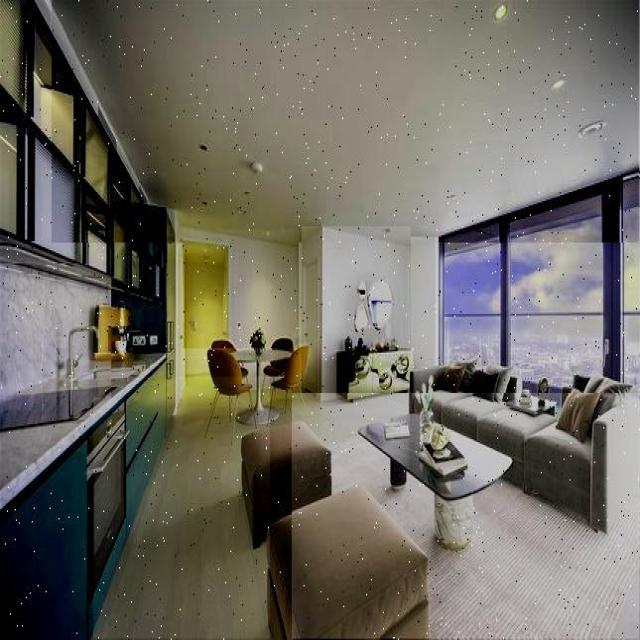Wall: (52, 0, 639, 243), (292, 393, 639, 639), (94, 377, 270, 639), (302, 227, 411, 402), (0, 264, 111, 397), (183, 229, 299, 348), (412, 238, 439, 368), (74, 334, 93, 372)
